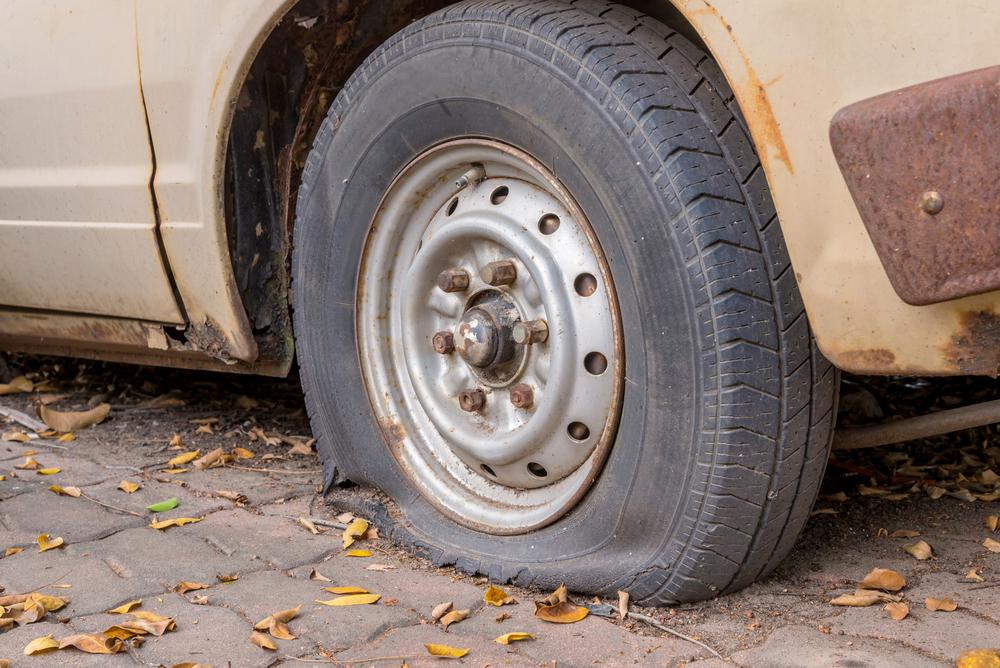tire flat: (294, 0, 840, 610)
